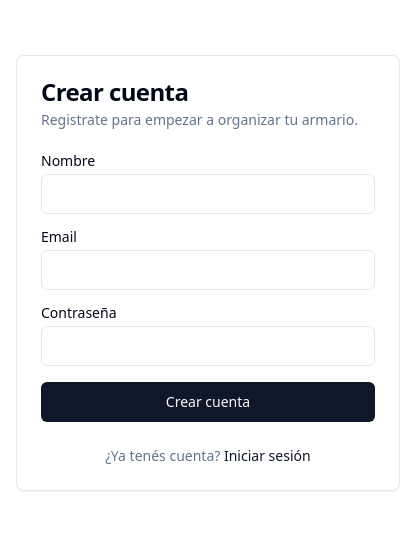
it: RegisterPage › no dispara el request si los campos están vacíos
Click the button "Crear cuenta" at (208, 402), box [41,382,375,422]
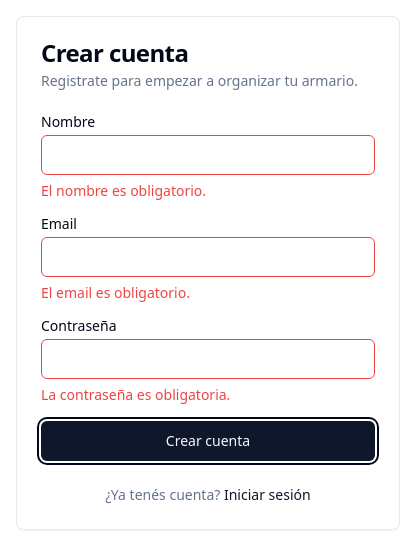
Check: the text "El nombre es obligatorio." is shown, box [41,181,206,200]
Check: the text "El email es obligatorio." is shown, box [41,283,190,302]
Check: the text "La contraseña es obligatoria." is shown, box [41,385,230,404]
